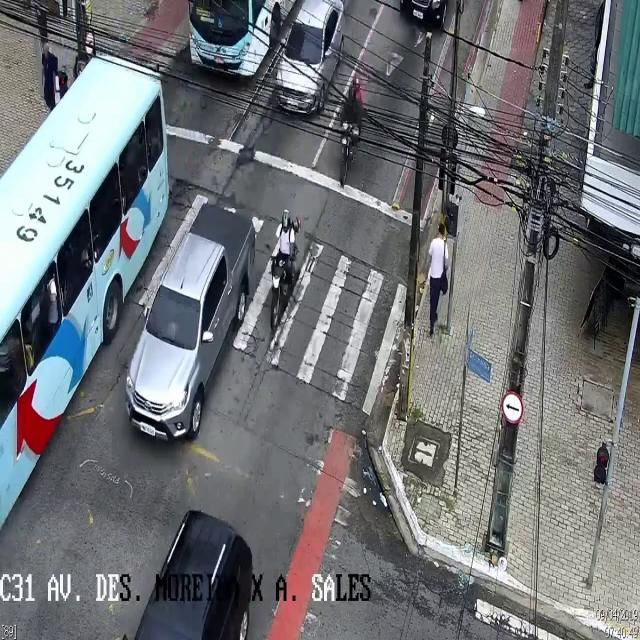Bus: (0, 53, 171, 551), (187, 0, 295, 84)
Car: (126, 206, 256, 438), (277, 1, 344, 112)
Motorcycle: (264, 206, 300, 327), (338, 75, 366, 188)
